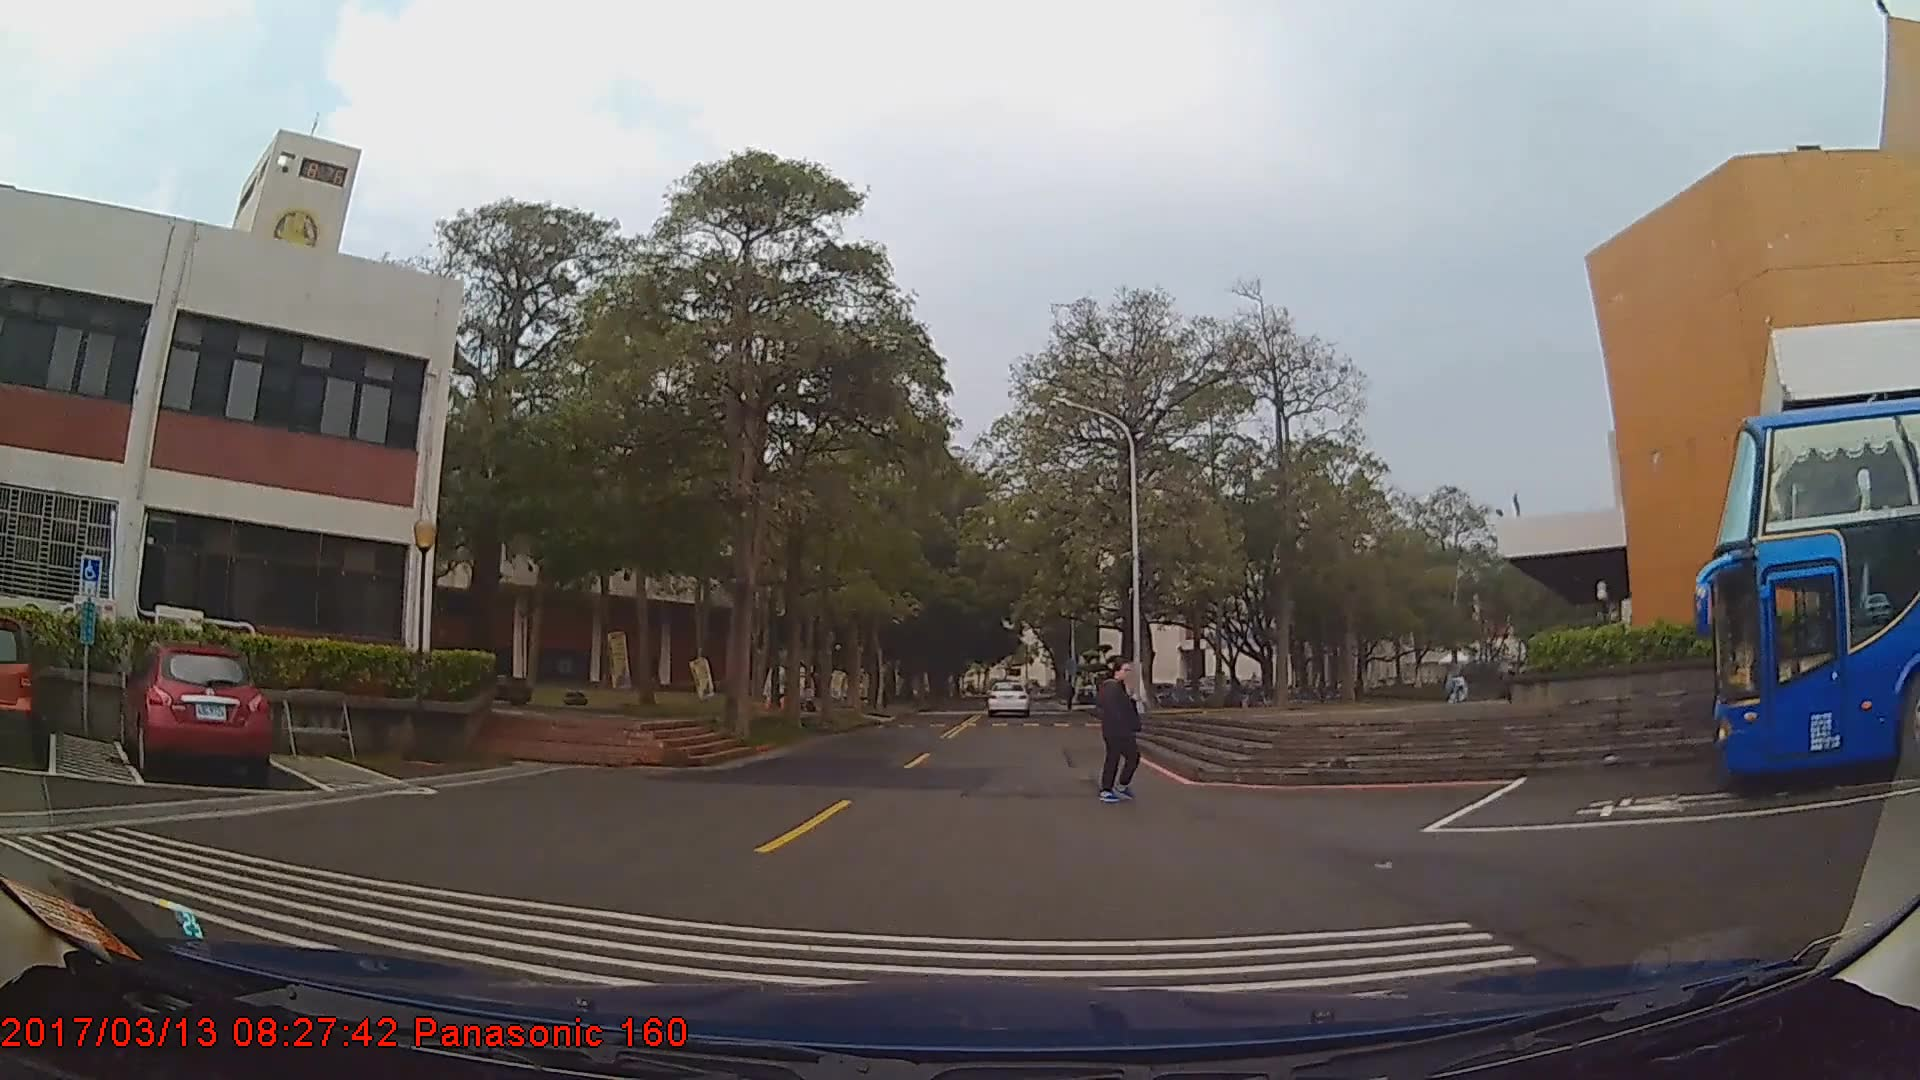pedestrian: (1096, 660, 1151, 806)
vehicle: (1708, 392, 1920, 788), (118, 645, 274, 789), (0, 608, 39, 760), (985, 679, 1027, 718)
